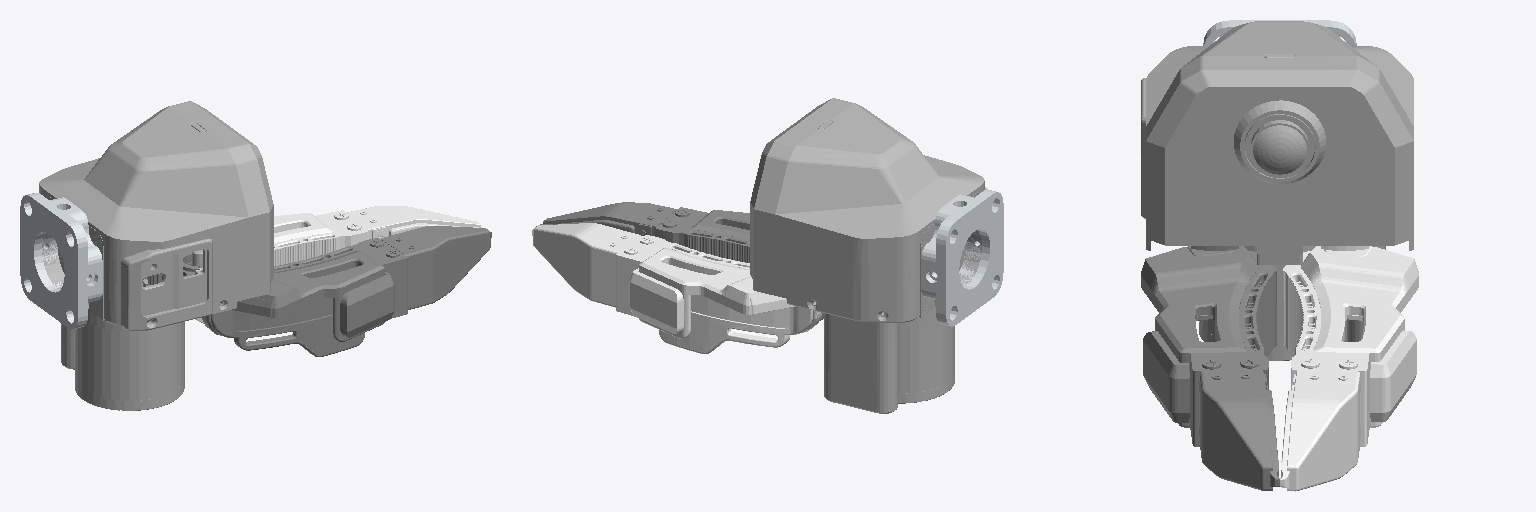
URDF robot description (taccap_g1_slave_with_mount):
<robot name="taccap_g1_slave_with_mount">
  <!-- Generated by scripts/generate_models.py; edit Xacro/config sources instead. -->
  <material name="taccap_base_mat">
    <color rgba="0.75294 0.75294 0.75294 1" />
  </material>
  <material name="taccap_left_mat">
    <color rgba="1 1 1 1" />
  </material>
  <material name="taccap_right_mat">
    <color rgba="0.60392 0.60392 0.60392 1" />
  </material>
  <material name="taccap_cover_mat">
    <color rgba="0.89804 0.91765 0.92941 1" />
  </material>
  <link name="Asm_link">
    <visual name="asm_visual">
      <geometry>
        <mesh filename="../meshes/Asm_link.STL" />
      </geometry>
      <material name="taccap_cover_mat" />
    </visual>
    <collision name="asm_collision">
      <geometry>
        <mesh filename="../meshes/Asm_link.STL" />
      </geometry>
    </collision>
  </link>
  <joint name="adapter_to_base" type="fixed">
    <parent link="Asm_link" />
    <child link="taccap_g1_slave" />
    <origin rpy="0 0 0" xyz="0.046023 -0.0060769 -0.01975" />
  </joint>
  <link name="taccap_g1_slave">
    <inertial>
      <origin rpy="0 0 0" xyz="0.002077 0.005327 0.009595" />
      <mass value="0.415" />
      <inertia ixx="0.000680" ixy="0" ixz="0" iyy="0.000748" iyz="0" izz="0.000573" />
    </inertial>
    <visual name="base_visual">
      <geometry>
        <mesh filename="../meshes/base_link.STL" />
      </geometry>
      <material name="taccap_base_mat" />
    </visual>
    <collision name="base_collision">
      <geometry>
        <mesh filename="../meshes/base_link.STL" />
      </geometry>
    </collision>
  </link>
  <link name="grip_left">
    <inertial>
      <origin rpy="0 0 0" xyz="0.074921 -0.00669 -0.020693" />
      <mass value="0.36678" />
      <inertia ixx="3.3606e-05" ixy="-6.6715e-06" ixz="2.4362e-06" iyy="0.00015466" iyz="-2.9254e-07" izz="0.00015235" />
    </inertial>
    <visual name="left_finger_visual">
      <geometry>
        <mesh filename="../meshes/grip_left.STL" />
      </geometry>
      <material name="taccap_left_mat" />
    </visual>
    <collision name="left_finger_collision">
      <geometry>
        <mesh filename="../meshes/grip_left.STL" />
      </geometry>
    </collision>
  </link>
  <joint name="grip_left_joint" type="revolute">
    <parent link="taccap_g1_slave" />
    <child link="grip_left" />
    <origin rpy="0 0 0" xyz="0.0144769712 0.0260269106 0.0077163282" />
    <axis xyz="0 0 -1" />
    <limit effort="4" lower="-0.5047492196767601" upper="0" velocity="1" />
    <dynamics damping="0.08" friction="0.01" />
    <mimic joint="grip_right_joint" multiplier="-1" offset="0" />
  </joint>
  <link name="grip_right">
    <inertial>
      <origin rpy="0 0 0" xyz="0.07491 0.0066814 -0.020629" />
      <mass value="0.36678" />
      <inertia ixx="3.3592e-05" ixy="6.6629e-06" ixz="2.4418e-06" iyy="0.0001547" iyz="2.9549e-07" izz="0.00015238" />
    </inertial>
    <visual name="right_finger_visual">
      <geometry>
        <mesh filename="../meshes/grip_right.STL" />
      </geometry>
      <material name="taccap_right_mat" />
    </visual>
    <collision name="right_finger_collision">
      <geometry>
        <mesh filename="../meshes/grip_right.STL" />
      </geometry>
    </collision>
  </link>
  <joint name="grip_right_joint" type="revolute">
    <parent link="taccap_g1_slave" />
    <child link="grip_right" />
    <origin rpy="0 0 0" xyz="0.0144769712 -0.0138730894 0.0077163282" />
    <axis xyz="0 0 -1" />
    <limit effort="4" lower="0" upper="0.5047492196767601" velocity="1" />
    <dynamics damping="0.08" friction="0.01" />
  </joint>
  <link name="visual_link">
    <inertial>
      <origin rpy="0 0 0" xyz="-0.17821 -0.00049167 0.022257" />
      <mass value="0.068231" />
      <inertia ixx="4.1918e-05" ixy="-3.304e-07" ixz="7.6626e-06" iyy="3.8396e-05" iyz="-6.1656e-08" izz="6.5602e-05" />
    </inertial>
    <visual name="cover_visual">
      <geometry>
        <mesh filename="../meshes/viusal_link.STL" />
      </geometry>
      <material name="taccap_cover_mat" />
    </visual>
  </link>
  <joint name="base_to_cover" type="fixed">
    <parent link="taccap_g1_slave" />
    <child link="visual_link" />
    <origin rpy="0 0 0" xyz="0.1667969712 0.0060769106 -0.0140336718" />
  </joint>
  <link name="eef" />
  <joint name="base_to_eef" type="fixed">
    <parent link="taccap_g1_slave" />
    <child link="eef" />
    <origin rpy="0 1.5707963267948966 0" xyz="0.145 0.0060769106 -0.017" />
  </joint>
</robot>

--- Facts derived from the render (not from the file) ---
3 views of the same robot in one strip: view 1: azimuth 30°, elevation 25°; view 2: azimuth 150°, elevation 25°; view 3: azimuth 270°, elevation 25° (orthographic).
Robot: taccap_g1_slave_with_mount — 6 links, 5 joints (2 revolute, 3 fixed); root link Asm_link; default pose: all joints at 0.
Visible links, largest first — view 1: taccap_g1_slave, grip_right, Asm_link, grip_left; view 2: taccap_g1_slave, grip_left, Asm_link, grip_right; view 3: taccap_g1_slave, grip_left, grip_right, Asm_link.
Link boxes in pixels (x1,y1,x2,y2): taccap_g1_slave: [39, 101, 273, 410]; grip_right: [148, 226, 491, 356]; Asm_link: [20, 193, 102, 329]; grip_left: [195, 206, 482, 323]; taccap_g1_slave: [750, 98, 987, 413]; grip_left: [532, 223, 821, 353]; Asm_link: [921, 190, 1003, 326]; grip_right: [536, 202, 823, 320]; taccap_g1_slave: [1141, 21, 1413, 360]; grip_left: [1280, 246, 1418, 491]; grip_right: [1141, 246, 1279, 490]; Asm_link: [1203, 20, 1356, 45].
Size in the robot's own frame: 0.2129 by 0.0872 by 0.1112 metres.
5 mesh visuals loaded from 5 distinct referenced files (5 binary STL).
